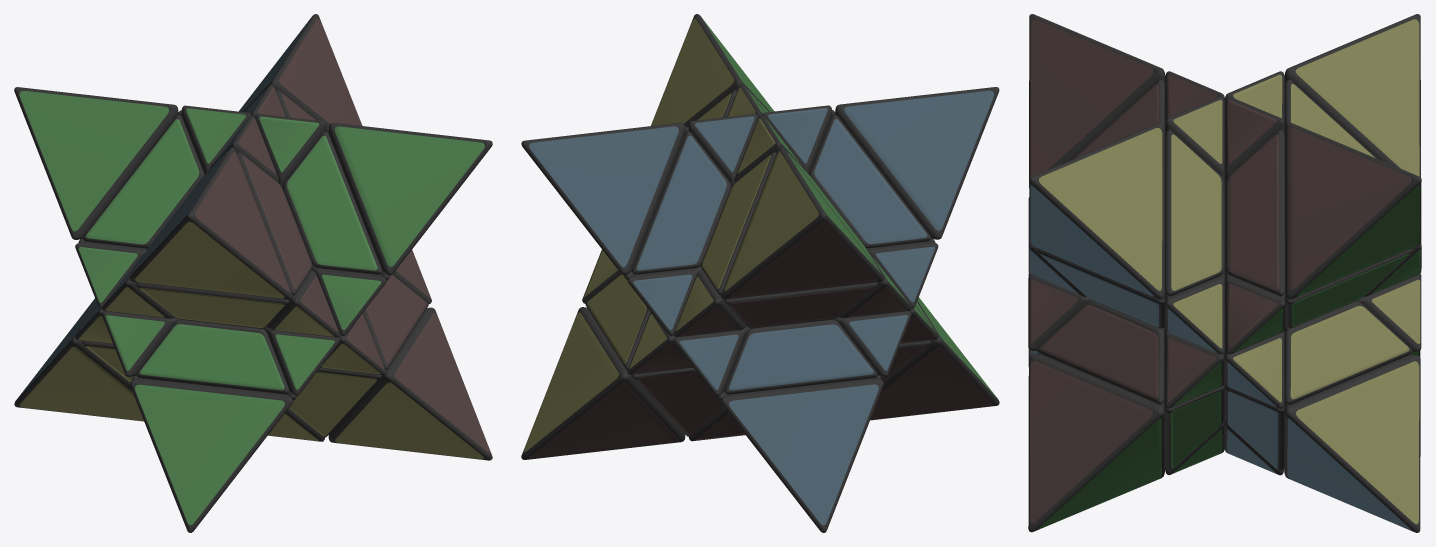
The model's file is Troy3dStarCube.fbx.
3 views of the same model, side by side, from view 1: azimuth 30°, elevation 25°; view 2: azimuth 150°, elevation 25°; view 3: azimuth 270°, elevation 25° (orthographic). The views are drawn at different scales.
Parts seen in each view (by area): view 1: polySurface64, polySurface191, polySurface106, polySurface160, polySurface109, polySurface91, polySurface117, polySurface101, polySurface99, polySurface145, polySurface119, polySurface137 (+43 smaller); view 2: polySurface144, polySurface118, polySurface138, polySurface184, polySurface174, polySurface139, polySurface189, polySurface84, polySurface83, polySurface190, polySurface108, polySurface65 (+43 smaller); view 3: polySurface65, polySurface137, polySurface83, polySurface119, polySurface190, polySurface99, polySurface170, polySurface89, polySurface120, polySurface75, polySurface100, polySurface85 (+49 smaller).
Boxes of the visible parts, <box> form: polySurface64: <box>335,126,484,266</box>; polySurface191: <box>19,91,168,231</box>; polySurface106: <box>135,384,284,525</box>; polySurface160: <box>140,324,284,390</box>; polySurface109: <box>287,135,377,270</box>; polySurface91: <box>86,119,199,244</box>; polySurface117: <box>135,221,284,298</box>; polySurface101: <box>335,382,484,459</box>; polySurface99: <box>394,313,489,452</box>; polySurface145: <box>19,347,143,420</box>; polySurface119: <box>195,152,289,291</box>; polySurface137: <box>279,18,361,125</box>; polySurface144: <box>729,384,878,525</box>; polySurface118: <box>844,90,993,230</box>; polySurface138: <box>529,126,678,267</box>; polySurface184: <box>729,324,873,390</box>; polySurface174: <box>814,119,927,243</box>; polySurface139: <box>636,135,726,270</box>; polySurface189: <box>729,221,878,298</box>; polySurface84: <box>529,382,678,458</box>; polySurface83: <box>524,312,618,452</box>; polySurface190: <box>723,151,818,291</box>; polySurface108: <box>870,346,994,419</box>; polySurface65: <box>651,18,734,125</box>; polySurface65: <box>1039,128,1162,290</box>; polySurface137: <box>1288,127,1411,290</box>; polySurface83: <box>1296,361,1419,524</box>; polySurface119: <box>1030,19,1153,176</box>; polySurface190: <box>1295,19,1419,176</box>; polySurface99: <box>1030,360,1152,523</box>; polySurface170: <box>1228,134,1279,290</box>; polySurface89: <box>1171,134,1221,290</box>; polySurface120: <box>1040,305,1158,399</box>; polySurface75: <box>1290,306,1409,399</box>; polySurface100: <box>1038,418,1161,528</box>; polySurface85: <box>1287,419,1410,529</box>.
Size of the model in its own units: 19.73 by 19.73 by 19.75.
